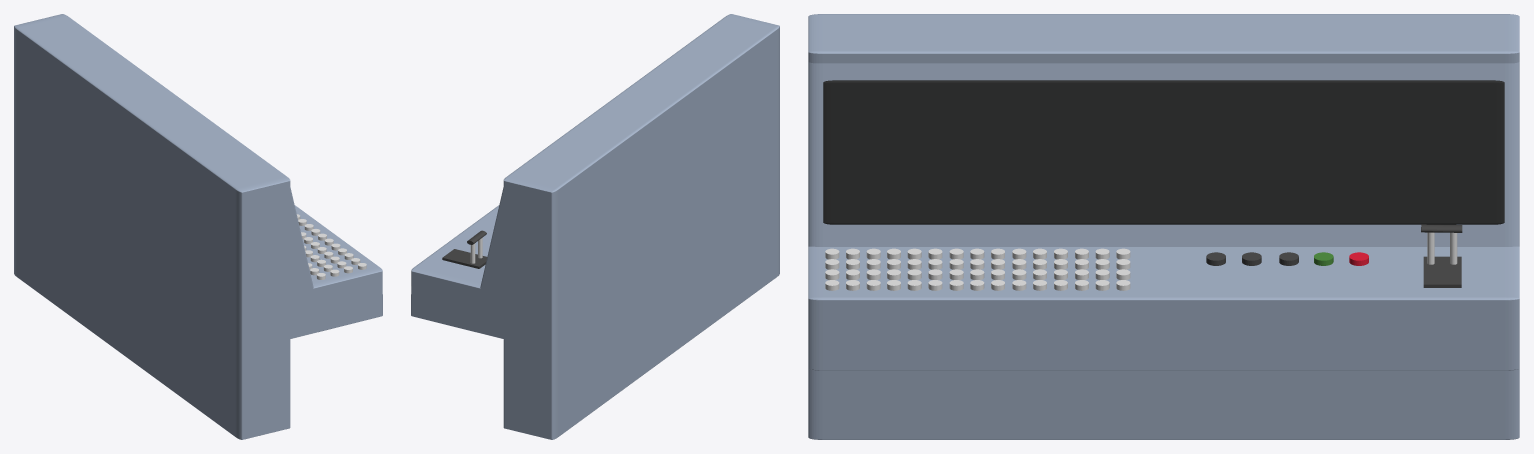
Rendered from RobotController.fbx.
The picture shows the model from 3 angles, left to right: view 1: azimuth 30°, elevation 25°; view 2: azimuth 150°, elevation 25°; view 3: azimuth 270°, elevation 25°; orthographic projection. The views are drawn at different scales.
Parts seen in each view (by area): view 1: Cube.002; view 2: Cube.002, Cube.003; view 3: Cube.002, Cube.004, Cube.003.
Boxes of the visible parts, x1,y1,x2,y2 form: Cube.002: (14, 14, 382, 439); Cube.002: (411, 14, 779, 439); Cube.003: (442, 249, 487, 268); Cube.002: (808, 14, 1519, 439); Cube.004: (823, 80, 1504, 224); Cube.003: (1423, 256, 1461, 287).
Size of the model in its own units: 261 by 429 by 712.
